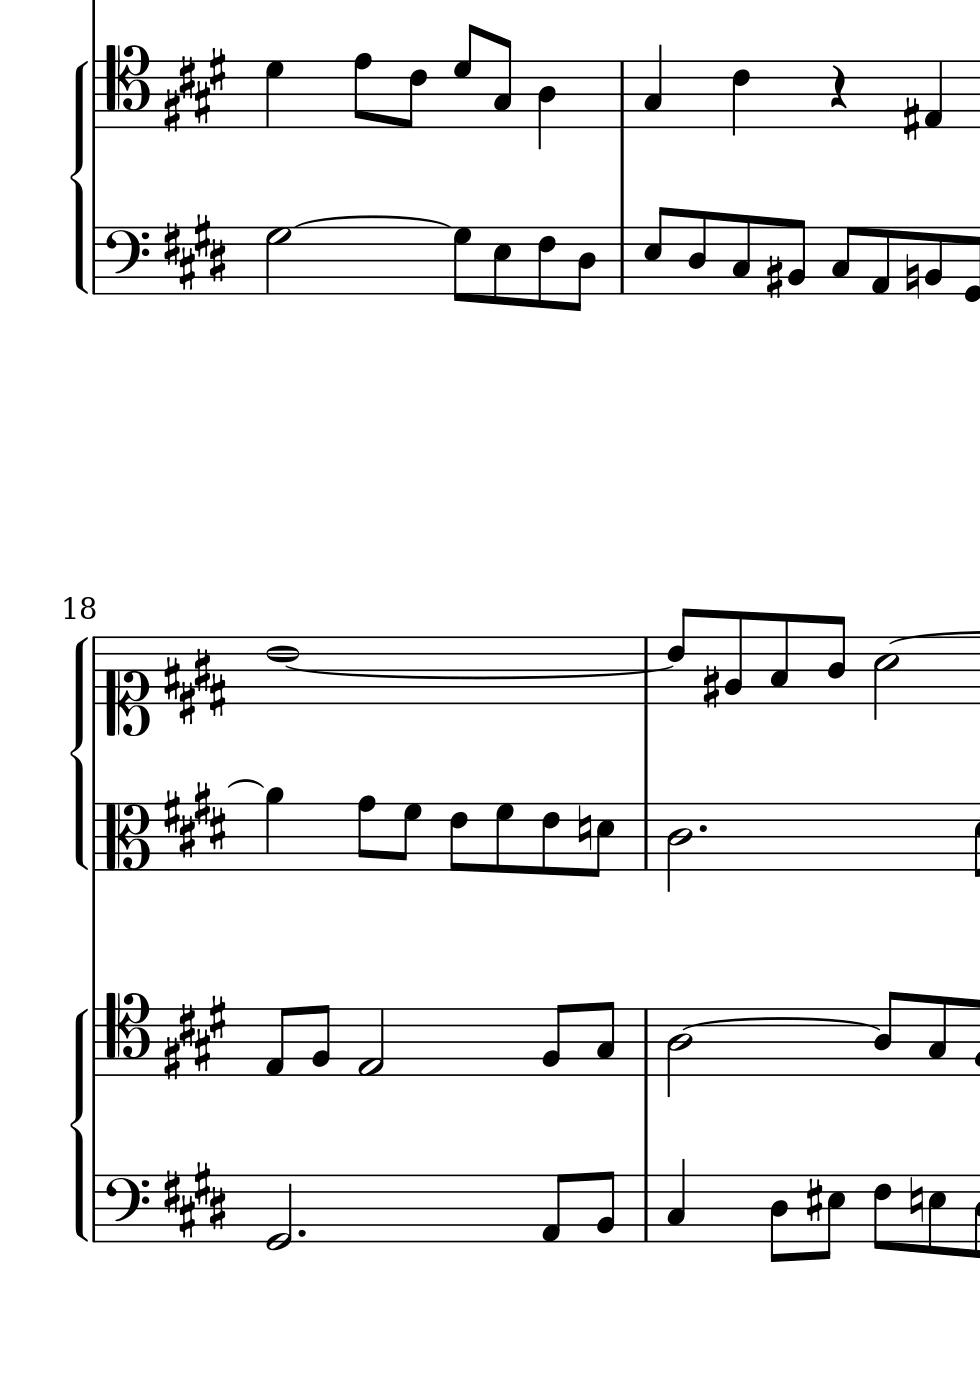1: (62, 594, 76, 622)
1_6: (265, 635, 298, 707)
2_0: (265, 1172, 293, 1251)
2_1: (356, 1007, 385, 1078)
2_4: (665, 1008, 692, 1096), (666, 802, 692, 893)
2_5: (871, 635, 899, 721)
2_7: (263, 226, 290, 296)
4_1: (923, 59, 944, 129)
4_3: (664, 1158, 687, 1243), (642, 43, 663, 129)
4_4: (535, 58, 557, 152)
4_6: (729, 58, 750, 138)
4_7: (263, 59, 285, 130)
4_9: (264, 785, 283, 872)
8: (78, 594, 97, 621)
8_1: (538, 1171, 568, 1244), (262, 1005, 292, 1077), (869, 225, 891, 297)
8_2: (723, 609, 745, 706), (541, 1003, 568, 1077), (786, 217, 807, 297), (594, 1170, 616, 1243), (310, 1003, 331, 1078), (923, 225, 944, 296)
8_3: (767, 612, 790, 707), (491, 36, 513, 129), (925, 994, 948, 1078), (829, 225, 857, 296), (730, 213, 752, 297), (594, 1000, 615, 1078)
8_4: (568, 224, 597, 312), (873, 990, 902, 1078), (768, 1173, 789, 1265), (686, 209, 708, 296), (826, 615, 846, 705)
8_5: (641, 205, 669, 297), (817, 1173, 845, 1262), (588, 801, 615, 879), (926, 1173, 947, 1257), (491, 225, 512, 308)
8_6: (664, 606, 695, 705), (401, 59, 428, 129), (533, 225, 555, 310), (871, 1173, 892, 1253), (540, 801, 559, 878), (448, 801, 468, 873)
8_7: (451, 21, 476, 130), (395, 801, 422, 871), (451, 225, 471, 304), (493, 801, 514, 874)
8_8: (351, 51, 372, 130), (355, 793, 377, 872)
Brace: (71, 629, 90, 876), (71, 1001, 90, 1248), (71, 56, 90, 296)
Cclef: (102, 801, 148, 873)
E_S: (161, 46, 229, 131), (162, 995, 230, 1080), (158, 1163, 229, 1242), (165, 214, 229, 295), (163, 647, 225, 725), (162, 778, 222, 859)
Fclef: (102, 1172, 148, 1243), (102, 223, 148, 293)
Natural: (907, 1174, 924, 1225), (575, 802, 592, 852), (904, 252, 920, 301)
Rests4: (828, 63, 848, 110)
Sharp: (803, 1176, 824, 1224), (764, 255, 784, 301), (701, 664, 720, 710), (902, 95, 920, 143)
Single_barline: (638, 1008, 655, 1077), (613, 226, 630, 294), (637, 803, 654, 870), (87, 60, 103, 129), (87, 1008, 103, 1077), (614, 62, 630, 128), (638, 637, 654, 704), (638, 1175, 654, 1242), (87, 637, 102, 704), (88, 802, 102, 872), (88, 1175, 102, 1243), (88, 228, 102, 294)
Slur: (285, 663, 676, 680), (682, 1016, 880, 1032), (291, 214, 452, 228), (226, 778, 265, 790)
Soprano_Cclef: (104, 634, 148, 738)
Tensor_Cclef: (103, 43, 148, 131), (104, 992, 148, 1075)
dot: (696, 821, 708, 836), (294, 1226, 307, 1239)
